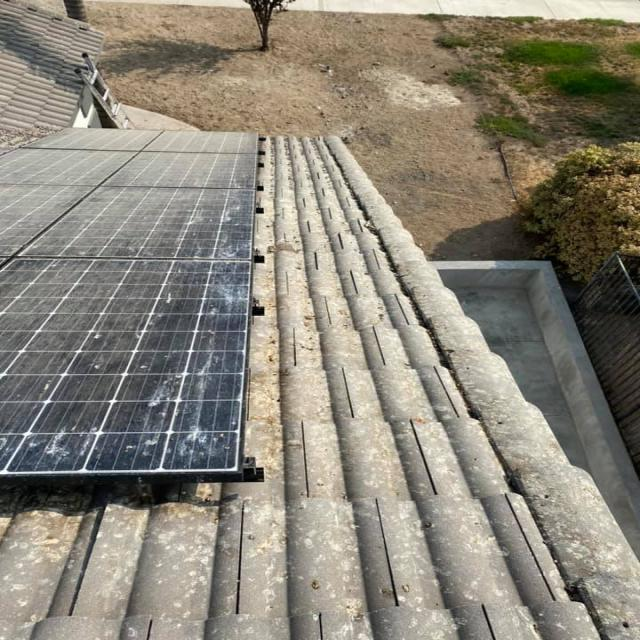dust-solar-panel: (0, 126, 257, 476)
